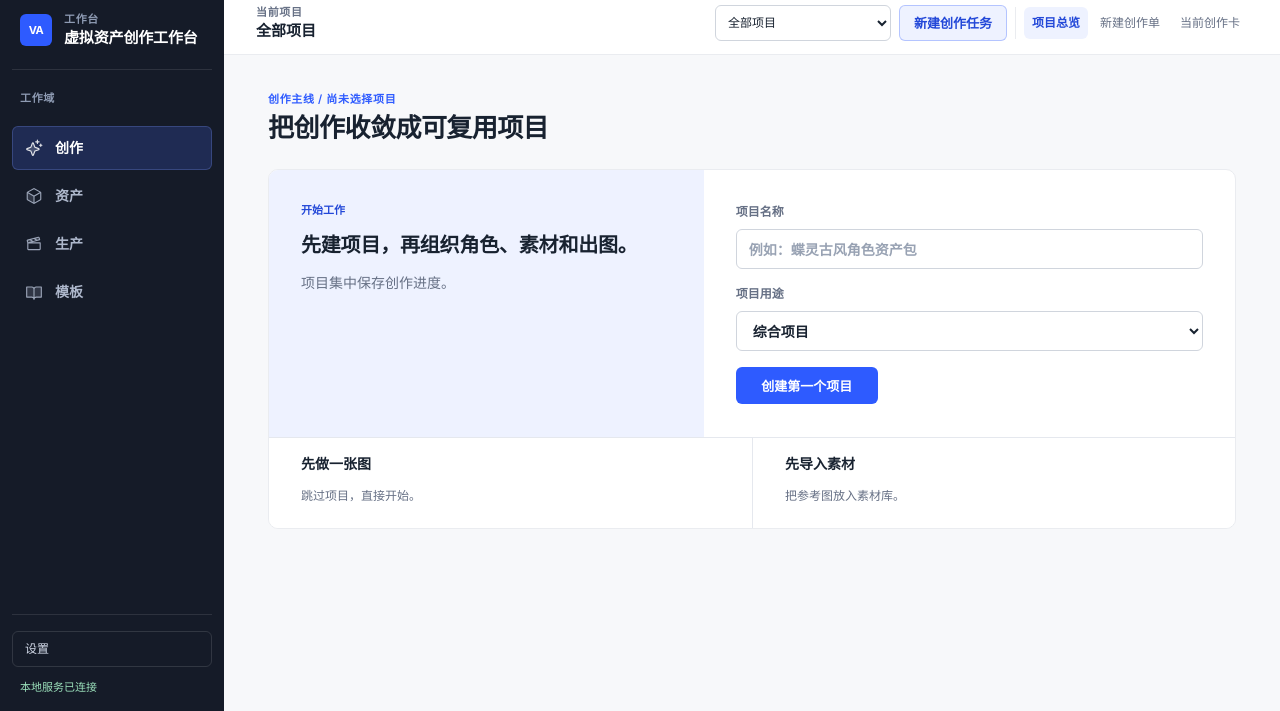
旧项目资产包列表请求较晚完成时不覆盖当前项目
Select "甲项目" in the dropdown named "当前项目" at {"x": 803, "y": 22}, box 715,4 -> 891,40
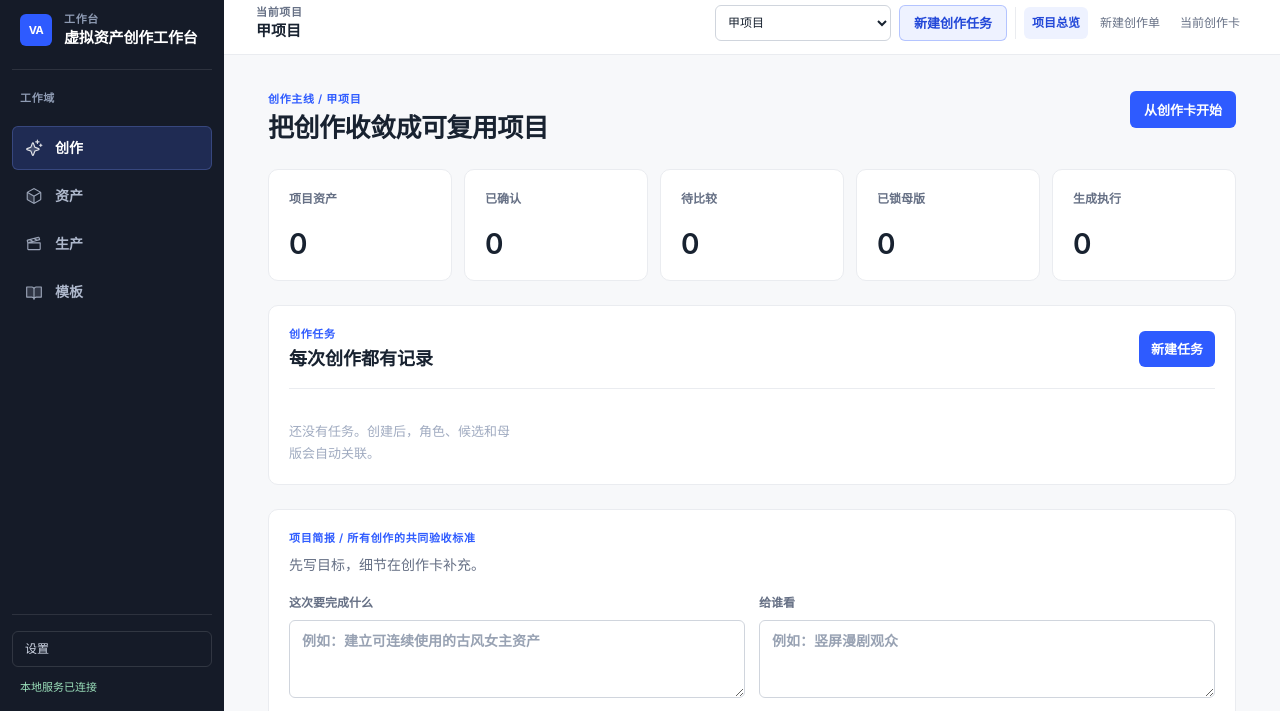
Select "乙项目" in the dropdown named "当前项目" at {"x": 803, "y": 22}, box 715,4 -> 891,40
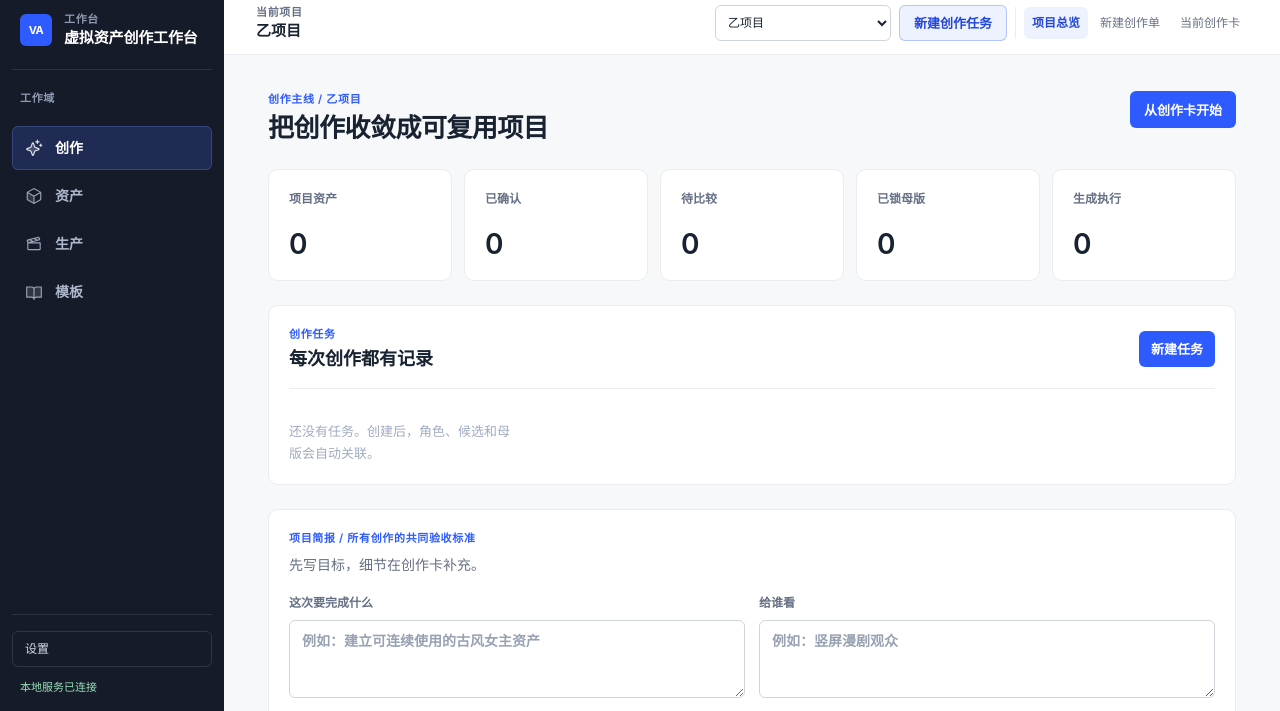
Click the button "资产" at {"x": 112, "y": 196}, box 12,174 -> 212,218
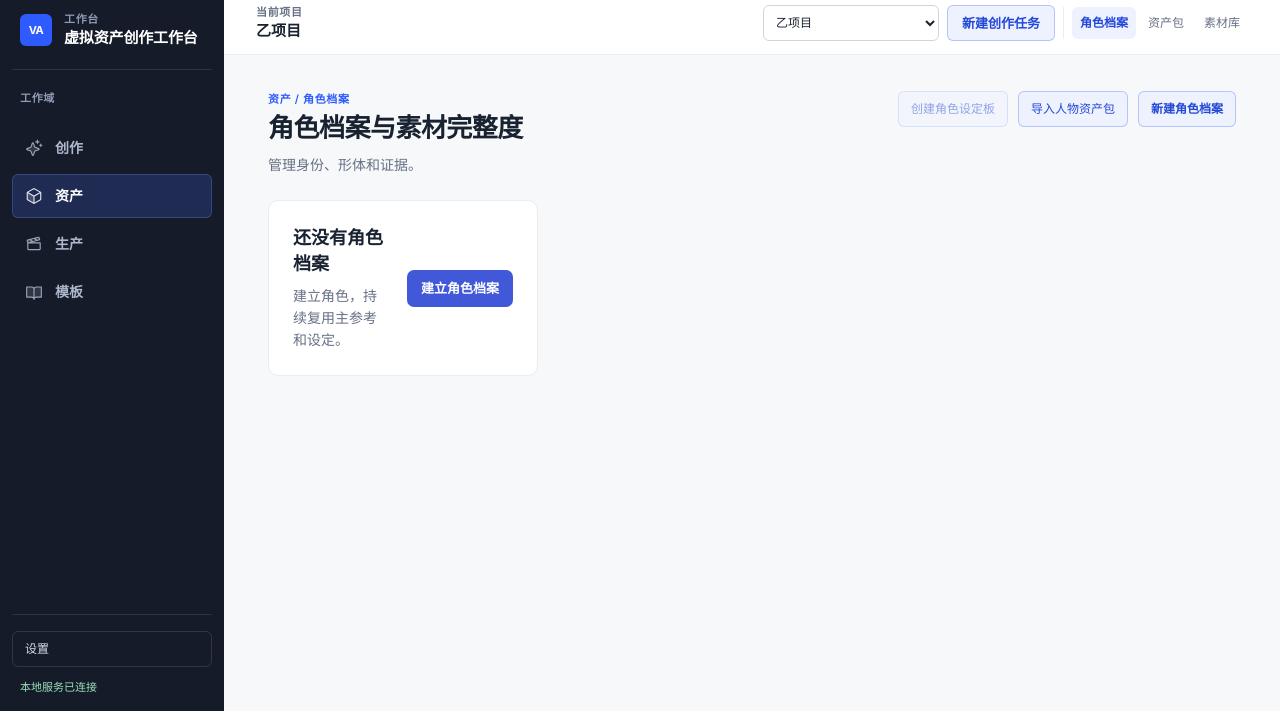
Click the button "资产包" at {"x": 1166, "y": 22}, box 1140,6 -> 1192,38
(page scrolled)
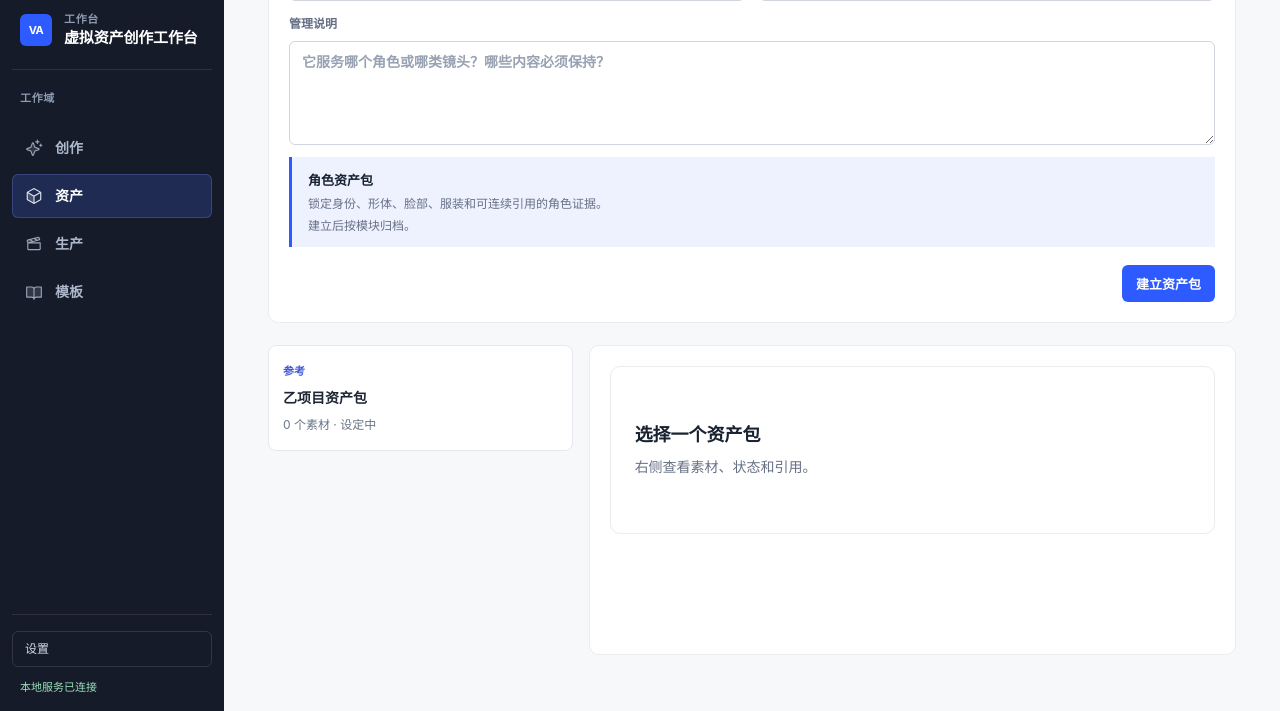
Now the button "参考 乙项目资产包 0 个素材 · 设定中" is shown, box 268,345 -> 573,451
